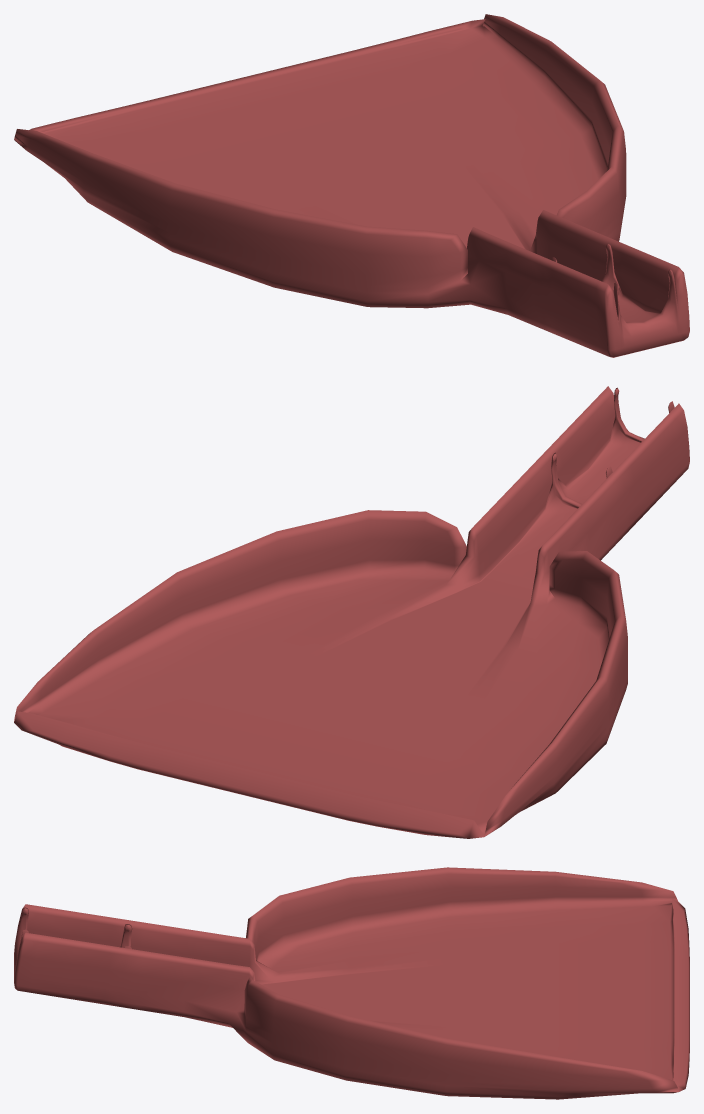
Rendered from Dustpan.fbx.
The picture shows the model from 3 angles, top to bottom: view 1: azimuth 30°, elevation 25°; view 2: azimuth 150°, elevation 25°; view 3: azimuth 270°, elevation 25°; orthographic projection. The views are drawn at different scales.
Parts seen in each view (by area): view 1: Dustpan; view 2: Dustpan; view 3: Dustpan.
Part boxes in pixels (x1,y1,x2,y2): Dustpan: (14,14,689,357); Dustpan: (14,386,689,838); Dustpan: (14,867,689,1099).
Bounding box in the file's own units: 1.03 × 0.2342 × 1.53.
